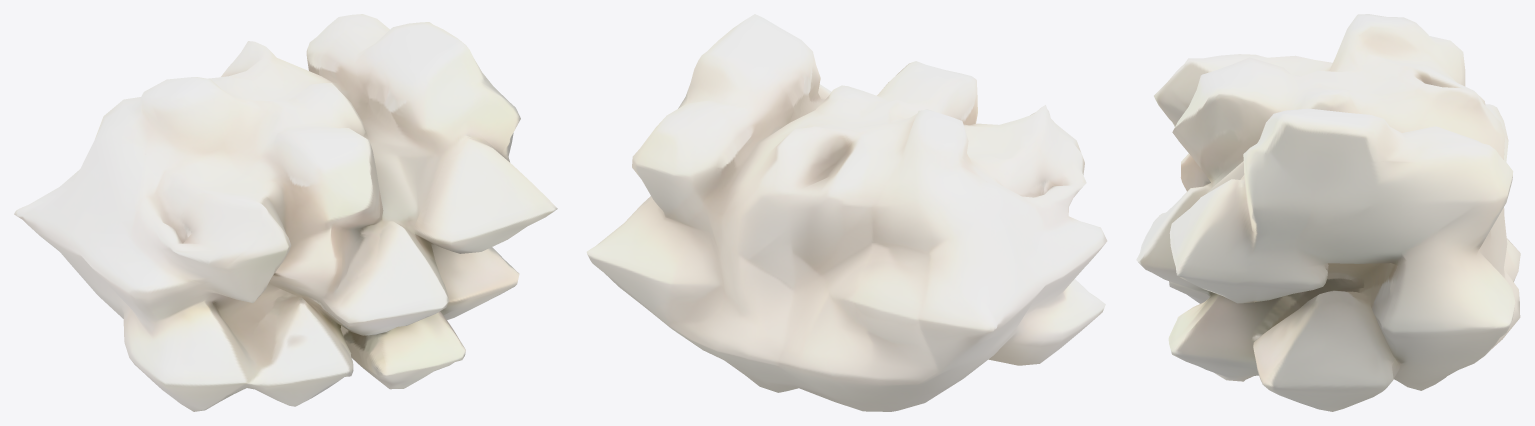
3 views of the same model, side by side, from view 1: azimuth 30°, elevation 25°; view 2: azimuth 150°, elevation 25°; view 3: azimuth 270°, elevation 25° (orthographic). The views are drawn at different scales.
Visible parts, largest first — view 1: model; view 2: model; view 3: model.
Part boxes in pixels (left/top/right/bottom): model: left=14, top=14, right=557, bottom=411; model: left=586, top=14, right=1107, bottom=411; model: left=1136, top=14, right=1520, bottom=411.
Bounding box in the file's own units: 139 × 100 × 111.
